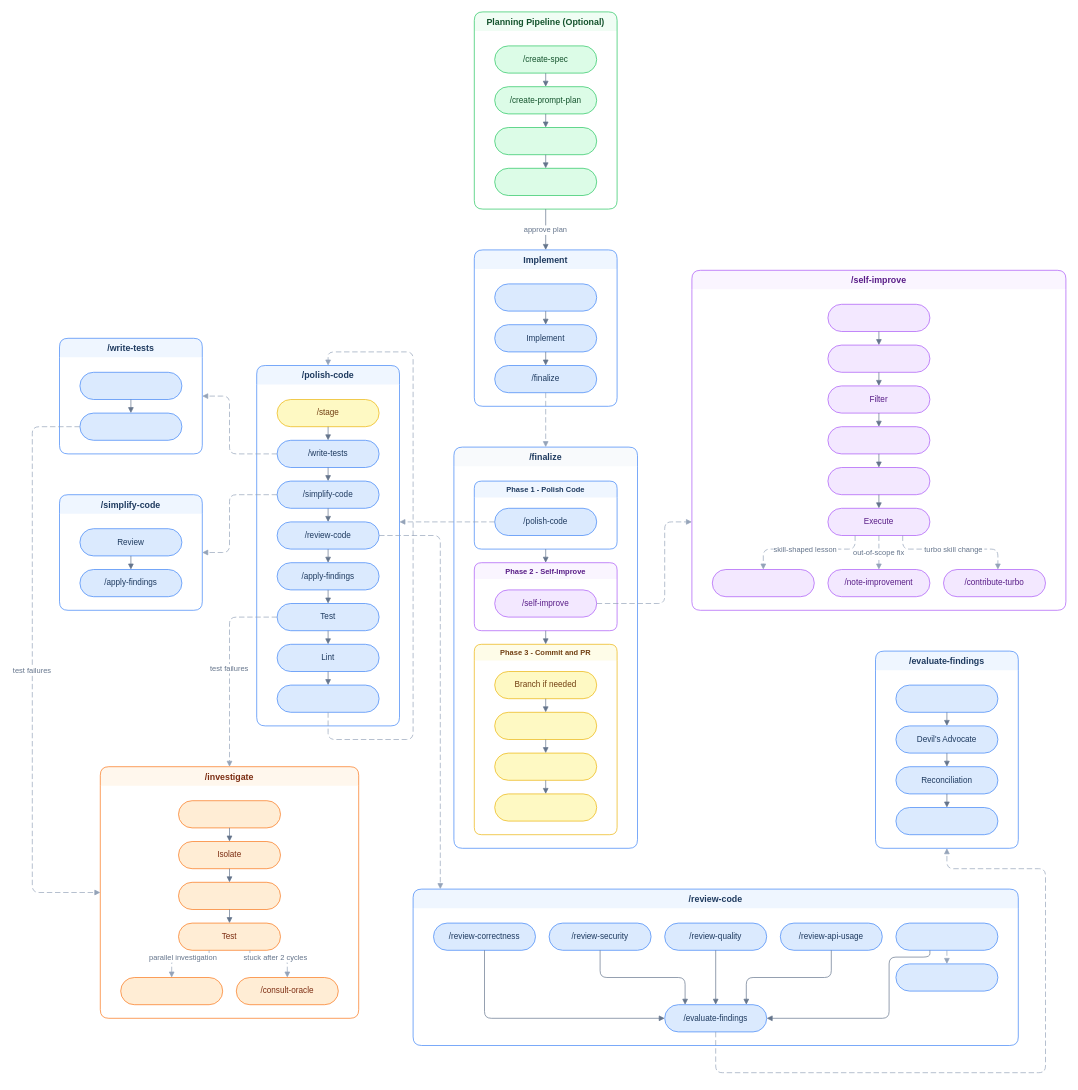
The diagram is 1078 pixels wide and 1090 high, and some of its shapes have lost their labels. The centre of each missing label's shape, as x and y in pixels:
/code-style: the point at 545,297
/codex-review: the point at 946,977
/commit-staged: the point at 545,726
/consult-codex: the point at 171,991
/create-pr or /update-pr: the point at 545,766
/create-skill: the point at 763,583
/peer-review: the point at 946,936
/pick-next-prompt: the point at 545,141
/plan-style: the point at 545,182
/resolve-pr-comments: the point at 545,807
/review-test-coverage: the point at 130,386
Assess each finding: the point at 946,698
Characterize: the point at 229,814
Detect Context: the point at 878,318
Format Output: the point at 946,821
Hypothesize: the point at 229,896
Present: the point at 878,481
Re-run if changed: the point at 327,698
Route: the point at 878,440
Scan Session: the point at 878,358
Write and run tests: the point at 130,426
